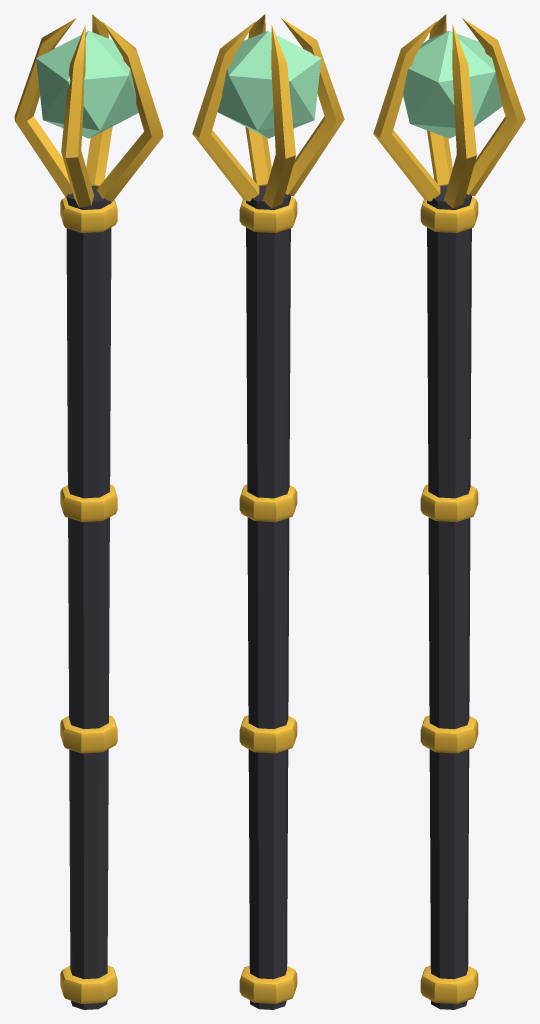
File: EmeraldStaff.fbx
3 views of the same model, side by side, from view 1: azimuth 30°, elevation 25°; view 2: azimuth 150°, elevation 25°; view 3: azimuth 330°, elevation 25° (orthographic).
Visible parts, largest first — view 1: EmeraldStaff; view 2: EmeraldStaff; view 3: EmeraldStaff.
Part boxes in pixels (x1,y1,x2,y2): EmeraldStaff: [14, 14, 163, 1009]; EmeraldStaff: [192, 14, 344, 1009]; EmeraldStaff: [373, 14, 525, 1009].
Size of the model in its own units: 0.5508 by 5.1 by 0.5508.
Materials: 1 (1 with a texture image).
